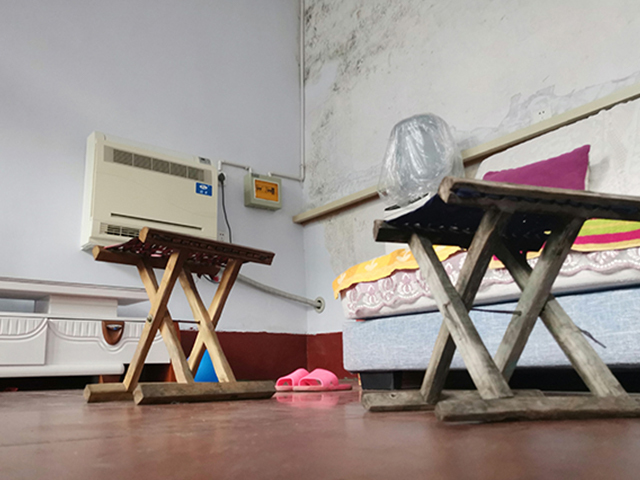cabinet: (1, 274, 181, 387)
slippers: (299, 368, 354, 393), (275, 369, 310, 391)
sofa: (330, 204, 640, 393)
stool: (358, 174, 640, 425), (80, 223, 278, 407)
